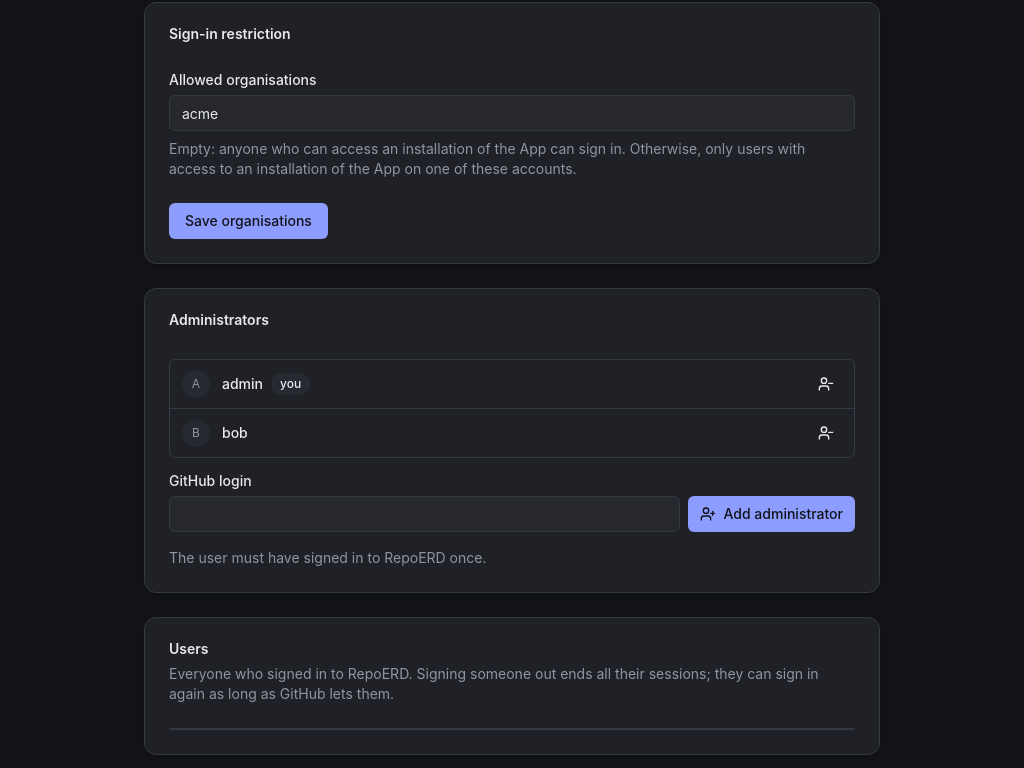
it: AdminPage › hides the admin sections once you removed your own rights
This screenshot has width=1024, height=768.
(page scrolled)
Click the button named "Remove admin". click: coordinates (826, 384)
box: [810,368,842,400]
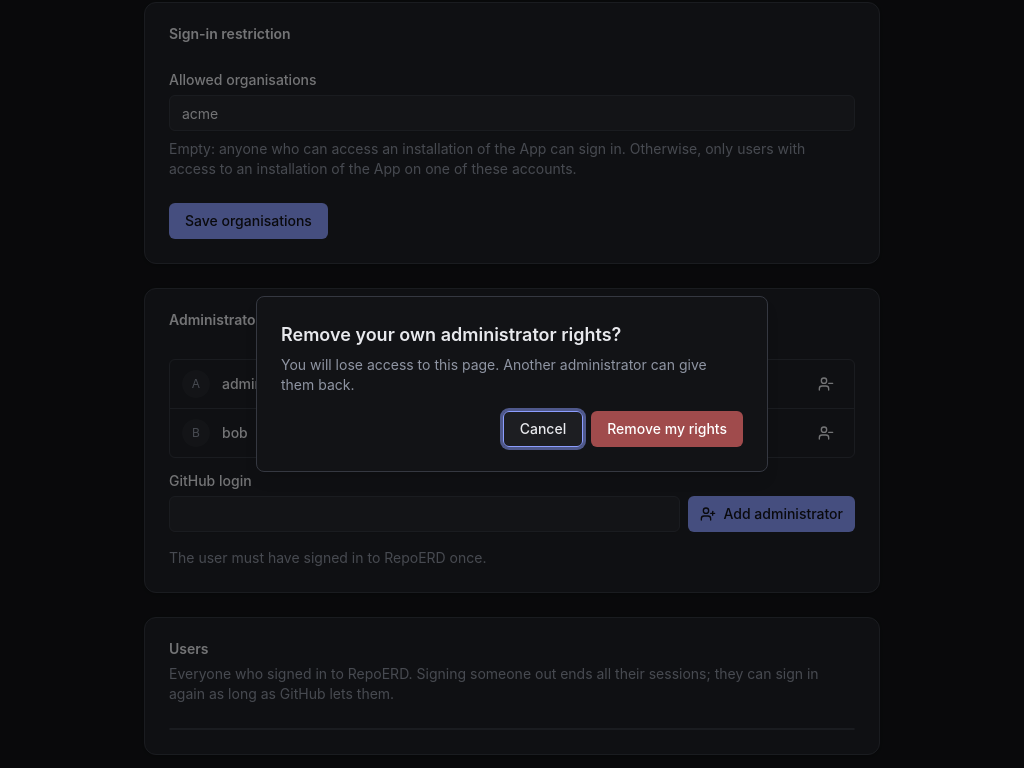
Click the button "Remove my rights". click: coordinates (667, 429)
box: [591,411,743,447]
(page scrolled)
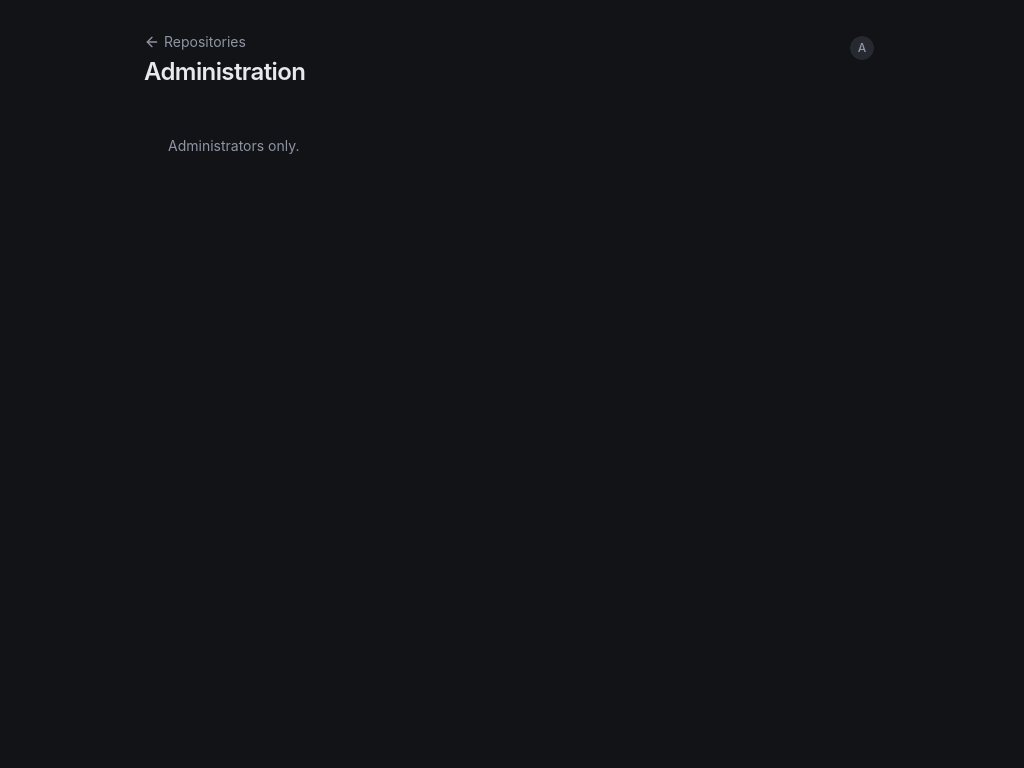
Result: the text "Administrators only." is shown at [168,137,300,154]
Result: the label labelled "Allowed organisations" is gone
